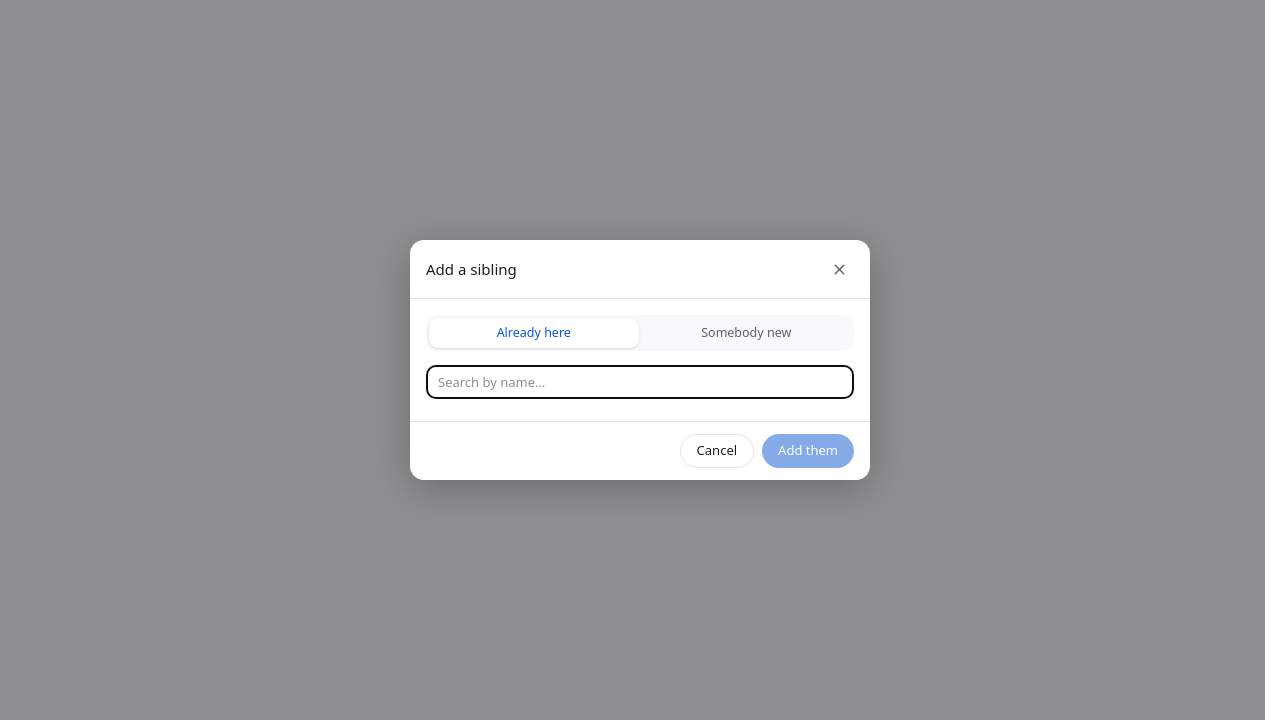
AddRelativeModal › Add button disabled-state branches › sibling type with non-empty parentIds + selected enables Add
This screenshot has width=1280, height=720.
In the field with placeholder "Search by name…": {"x": 640, "y": 382} [426,365,854,399], type "S"
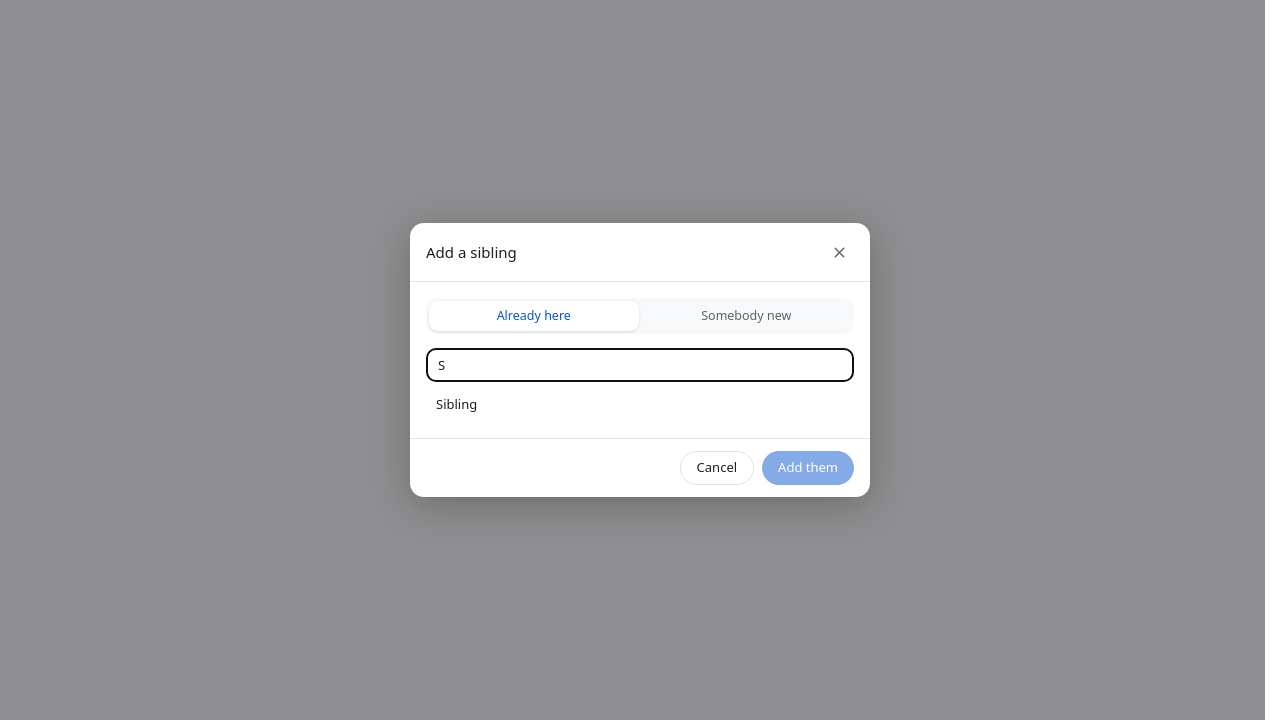
Check: the text "Sibling" is shown, box [436,395,477,413]
Click the button "Sibling": {"x": 457, "y": 404} [426,388,854,422]
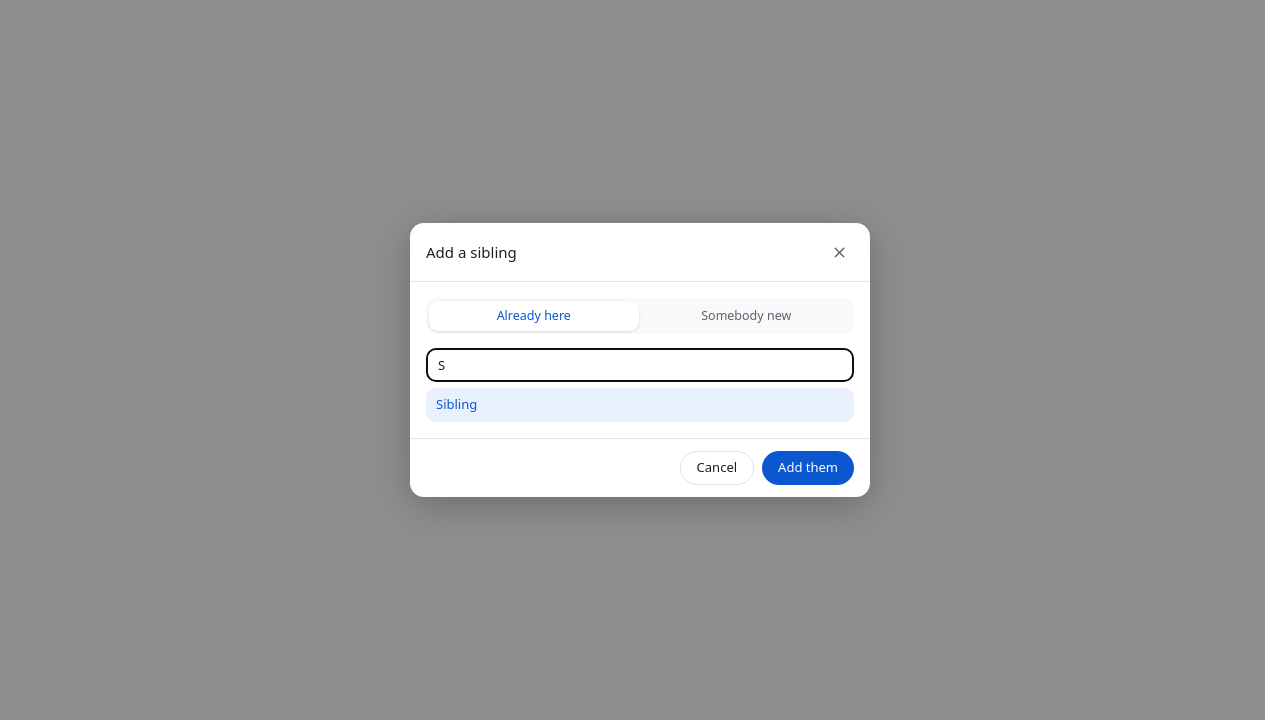
Check: the button "Add them" is enabled, box [762,451,854,485]
